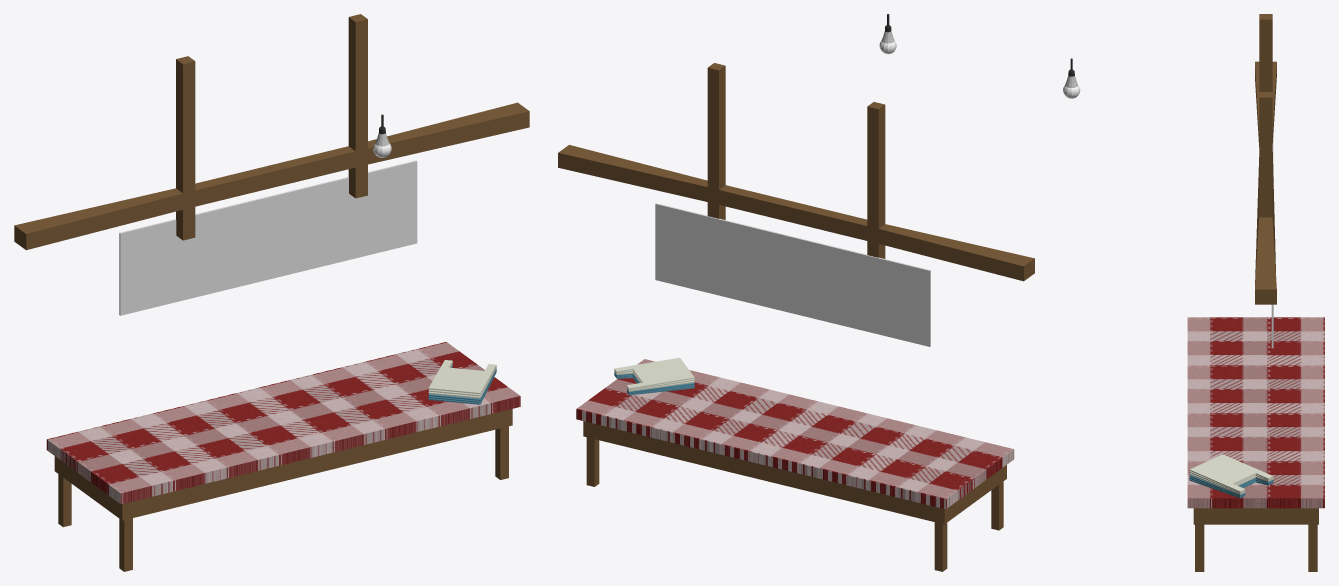
File: tindahanngkakanin.fbx
3 views of the same model, side by side, from view 1: azimuth 30°, elevation 25°; view 2: azimuth 150°, elevation 25°; view 3: azimuth 270°, elevation 25° (orthographic). The views are drawn at different scales.
Parts seen in each view (by area): view 1: tindahanngkakanin, stallname, wood, plastic, Cube.622; view 2: tindahanngkakanin, stallname, wood, plastic, Cube.622; view 3: tindahanngkakanin, wood, plastic, Cube.622, light.
Boxes of the visible parts, bbox=[...] form: tindahanngkakanin: bbox=[46, 342, 520, 520]; stallname: bbox=[119, 160, 417, 315]; wood: bbox=[14, 14, 529, 250]; plastic: bbox=[428, 360, 496, 404]; Cube.622: bbox=[58, 426, 508, 571]; tindahanngkakanin: bbox=[576, 359, 1014, 524]; stallname: bbox=[655, 203, 930, 346]; wood: bbox=[558, 63, 1034, 281]; plastic: bbox=[614, 357, 694, 395]; Cube.622: bbox=[586, 437, 1003, 571]; tindahanngkakanin: bbox=[1187, 317, 1324, 524]; wood: bbox=[1255, 14, 1276, 304]; plastic: bbox=[1189, 454, 1273, 498]; Cube.622: bbox=[1195, 524, 1317, 571]; light: bbox=[1063, 58, 1080, 98].
Size of the model in its own units: 6.83 by 5.95 by 3.32.
Materials: 8 (1 with a texture image).
